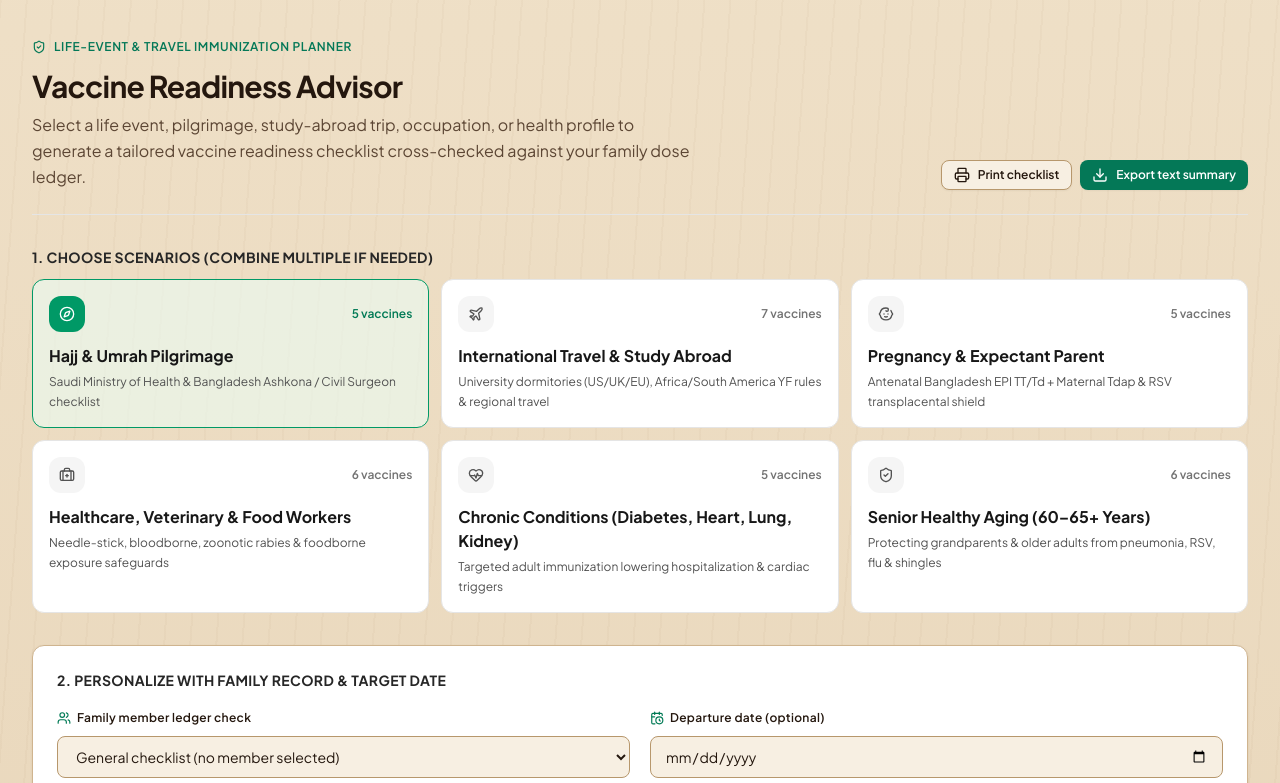
Test: ReadinessPage & CommandPalette UI integration › allows selecting scenarios and calculating deadlines on ReadinessPage
Expected: the heading "Vaccine Readiness Advisor" is shown, [32,67,402,105]
Note: Toggle Pregnancy on as well
Click the button "Pregnancy & Expectant Parent" at point(1049, 354), box [851,279,1248,428]
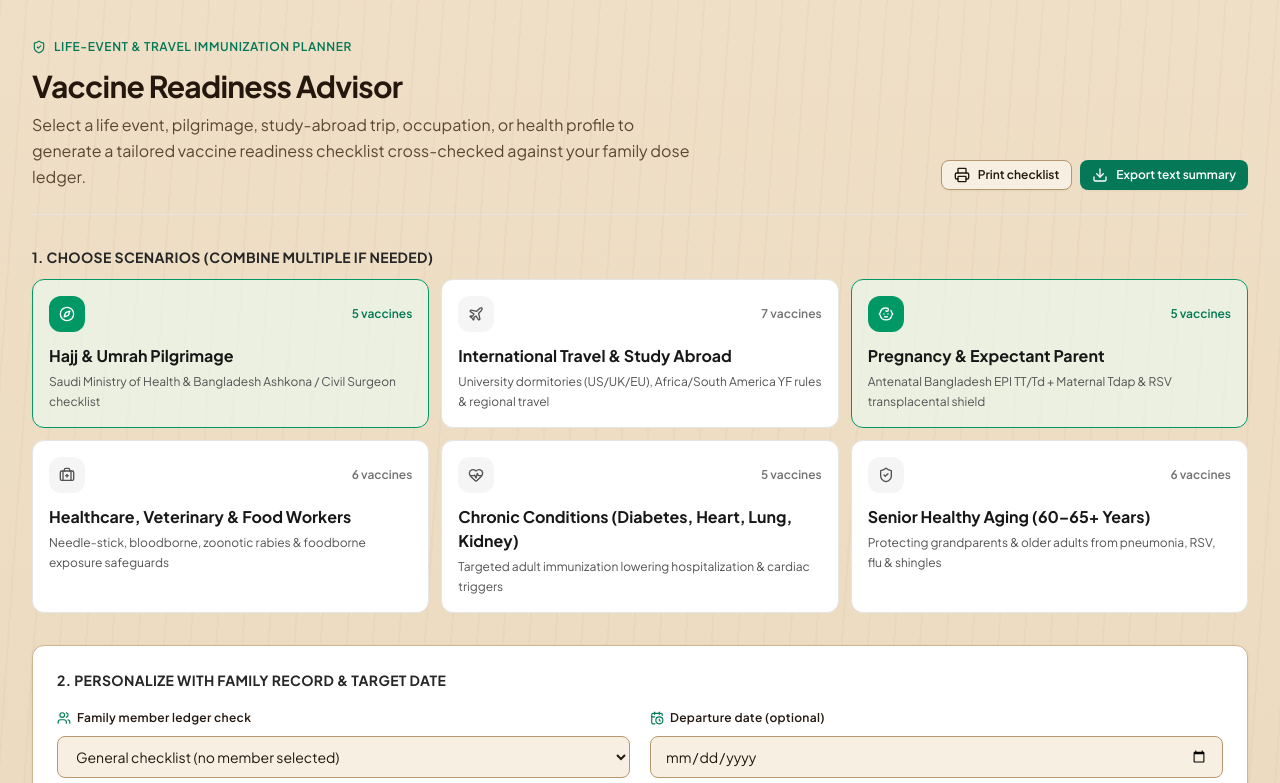
Note: Enter a target date
Type "2027-06-20" into the date field labelled "Departure date (optional)" at point(936, 757), box [650,736,1223,778]
(page scrolled)
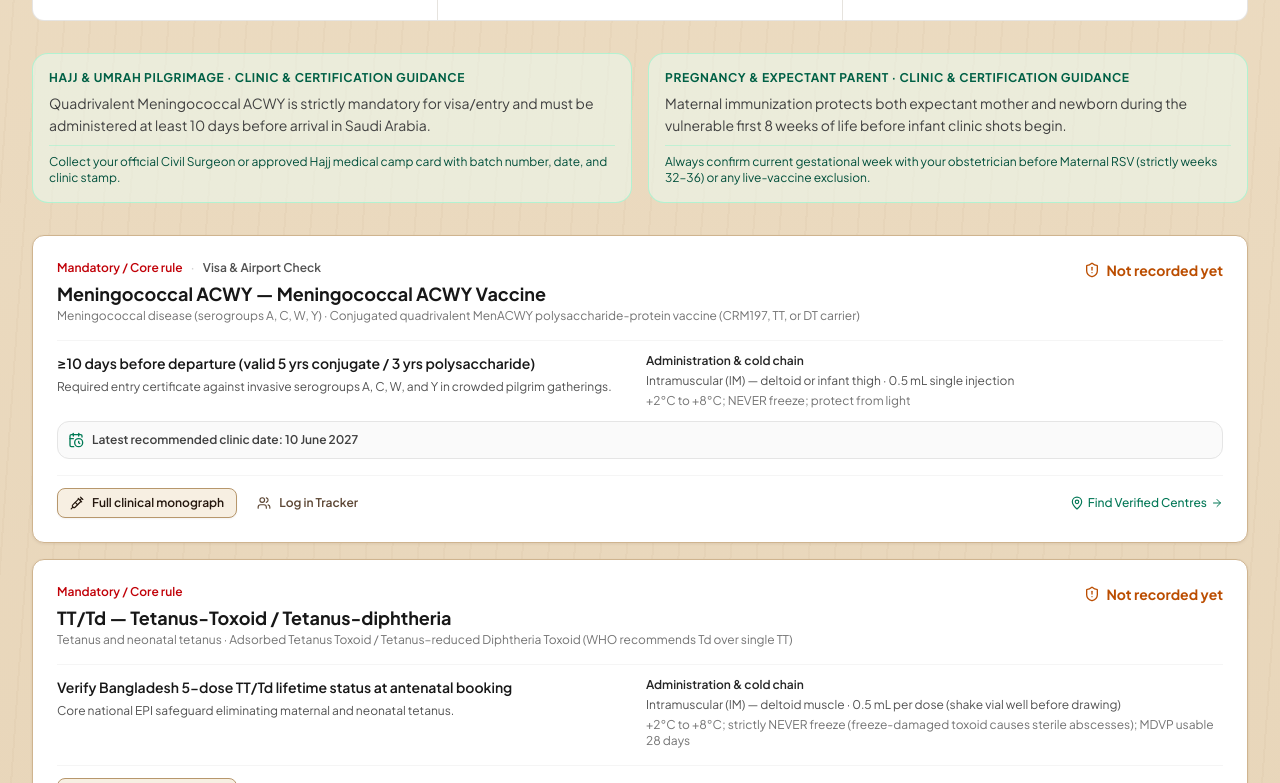
Result: the text "Latest recommended clinic date: 10 June 2027" is shown at [92,432,358,448]
